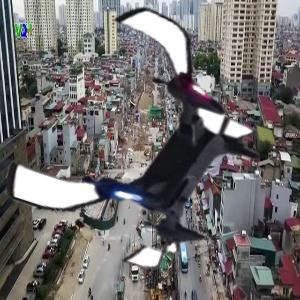drone: (14, 7, 276, 269)
